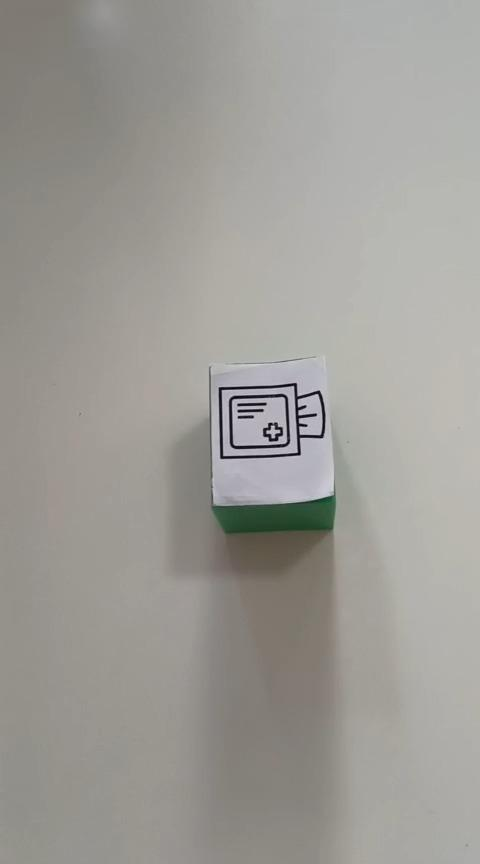Gauze: (207, 354, 336, 533)
